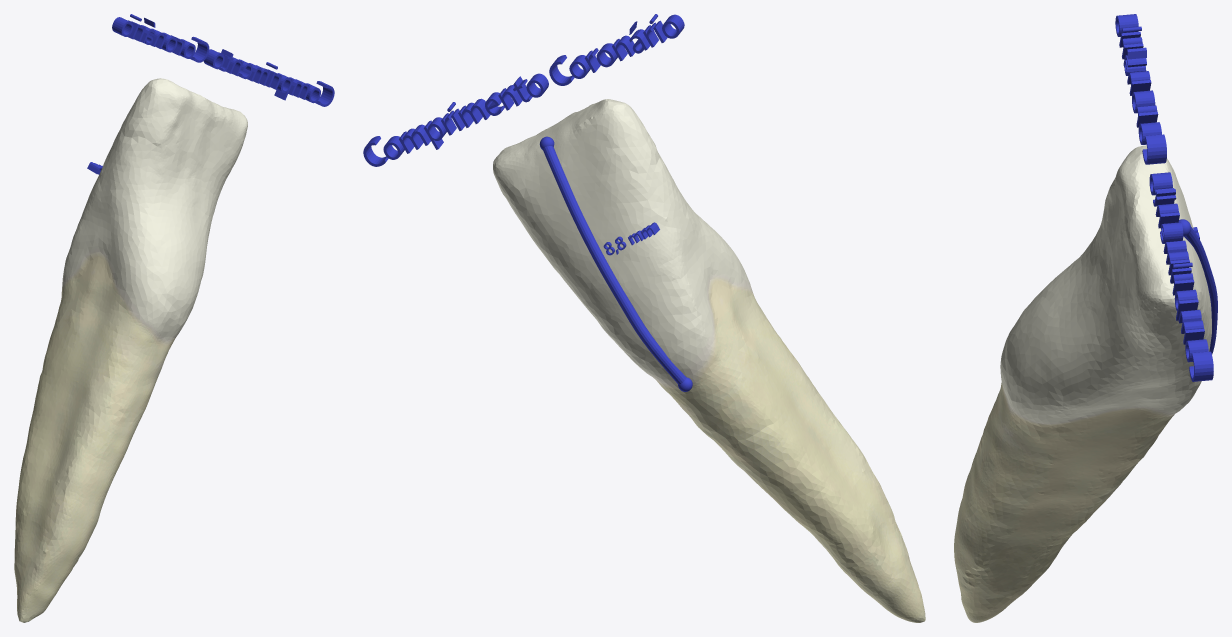
File: 31 - Comprimento Coronário.glb
3 renders of one model, left to right at view 1: azimuth 30°, elevation 25°; view 2: azimuth 150°, elevation 25°; view 3: azimuth 270°, elevation 25°, orthographic. The views are drawn at different scales.
Parts seen in each view (by area): view 1: 3MFMeshParent_0, 3MFMeshParent_1; view 2: 3MFMeshParent_0, 3MFMeshParent_1, 3MFMeshParent_3; view 3: 3MFMeshParent_0, 3MFMeshParent_1, 3MFMeshParent_3.
Part boxes in pixels (box(x1,y1,x2,y2)): 3MFMeshParent_0: box(14, 78, 247, 622); 3MFMeshParent_1: box(112, 14, 334, 106); 3MFMeshParent_0: box(493, 99, 925, 622); 3MFMeshParent_1: box(363, 14, 684, 166); 3MFMeshParent_3: box(542, 146, 686, 384); 3MFMeshParent_0: box(954, 145, 1211, 622); 3MFMeshParent_1: box(1115, 14, 1213, 381); 3MFMeshParent_3: box(1184, 227, 1217, 354).
Bounding box in the file's own units: 0.4766 × 0.6 × 0.2037.
2 materials, 1 textured.
